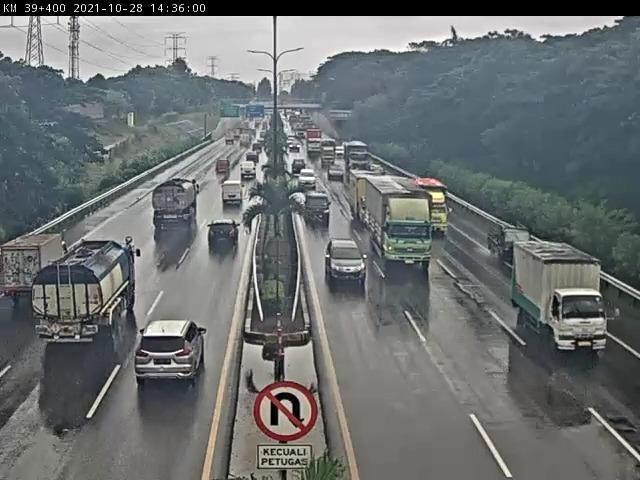car: (133, 314, 202, 386), (489, 220, 522, 264), (329, 232, 357, 280), (207, 231, 245, 265), (309, 189, 327, 222), (295, 167, 319, 185), (245, 165, 254, 179)
truck: (513, 242, 606, 345), (47, 252, 120, 352), (363, 177, 433, 270), (4, 240, 42, 311), (415, 170, 451, 234), (157, 179, 187, 244), (223, 187, 244, 216)
